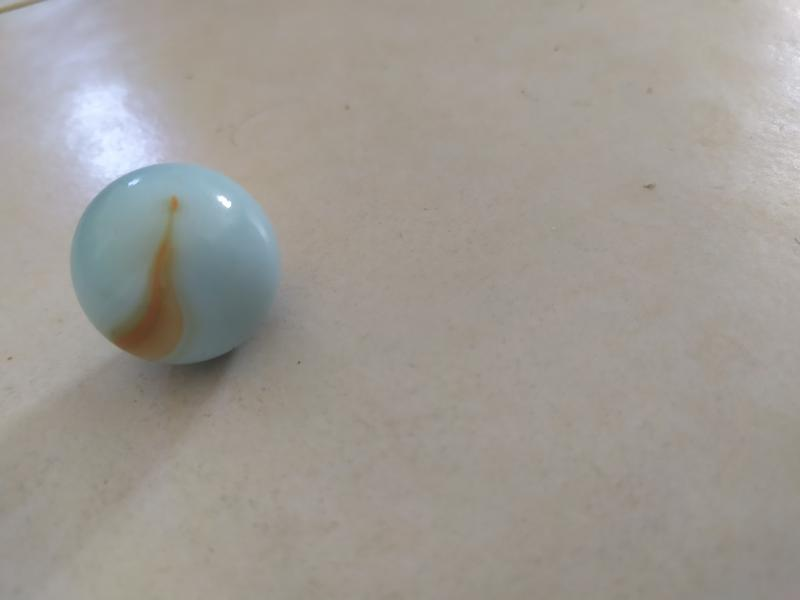Warning: (65, 159, 286, 371)
